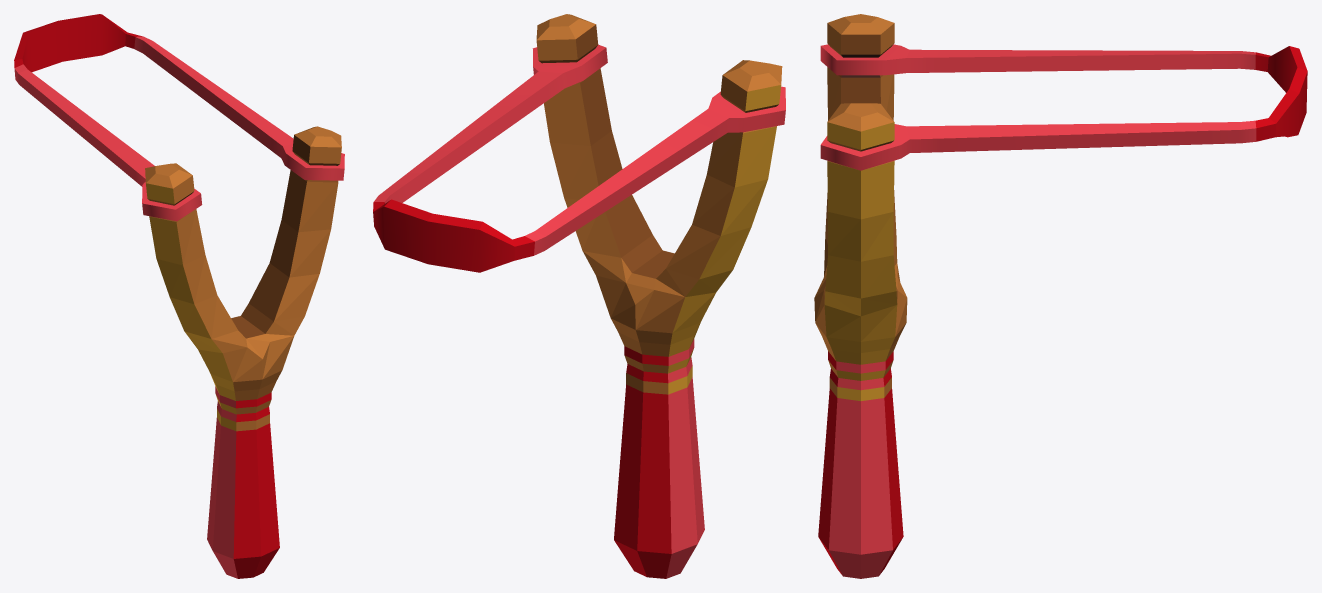
The model's file is Slingshot.fbx.
The picture shows the model from 3 angles, left to right: view 1: azimuth 30°, elevation 25°; view 2: azimuth 150°, elevation 25°; view 3: azimuth 270°, elevation 25°; orthographic projection. The views are drawn at different scales.
Parts seen in each view (by area): view 1: Wood, Rubber; view 2: Wood, Rubber; view 3: Wood, Rubber.
Part boxes in pixels (left/top/right/bottom): Wood: left=145, top=126, right=341, bottom=578; Rubber: left=14, top=14, right=344, bottom=221; Wood: left=536, top=14, right=782, bottom=578; Rubber: left=373, top=44, right=785, bottom=272; Wood: left=814, top=14, right=907, bottom=578; Rubber: left=820, top=44, right=1307, bottom=170.
Bounding box in the file's own units: 1029 × 2039 × 1801.
